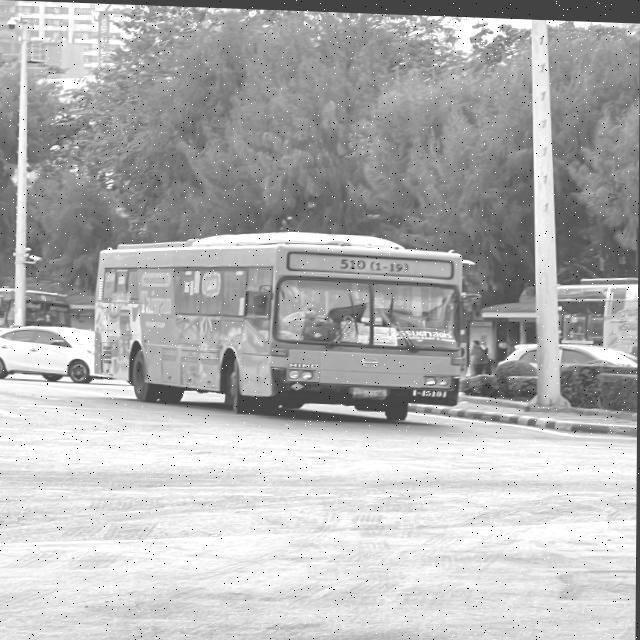BMTA-bus: (92, 225, 468, 423)
Bus-Line-Number: (330, 253, 418, 276)
Destination-Sign-Normal: (396, 324, 458, 345)
